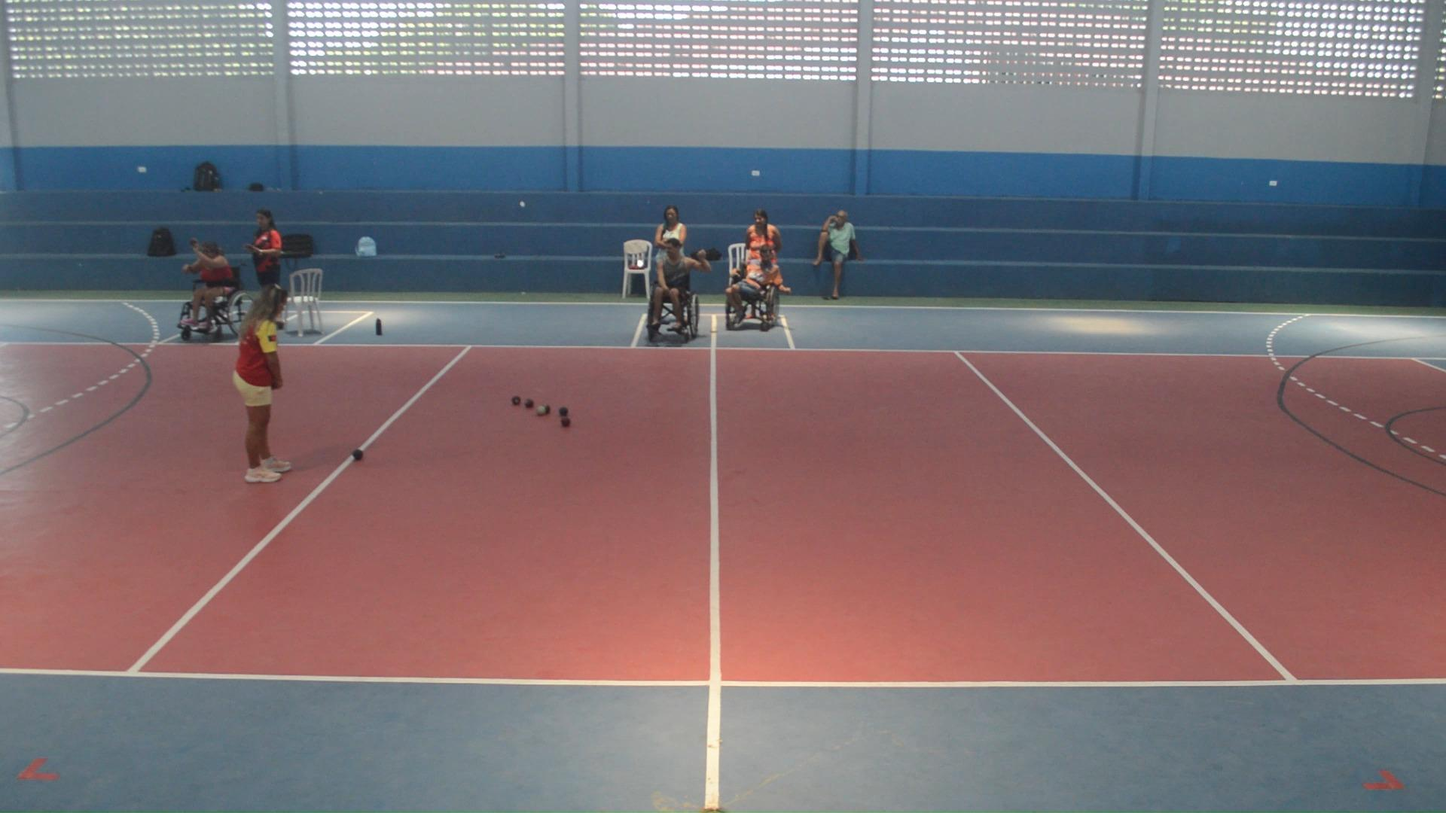blue_ball: (559, 407, 569, 416), (353, 450, 362, 459)
red_ball: (512, 395, 521, 405), (562, 418, 570, 427), (525, 399, 533, 407), (544, 404, 551, 413)
white_ball: (536, 406, 545, 415)
